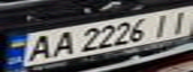2: (75, 25, 103, 54), (96, 21, 121, 51), (115, 19, 136, 47)
6: (127, 16, 154, 43)
A: (18, 33, 57, 63), (45, 29, 78, 58)
I: (145, 11, 178, 38), (163, 7, 193, 35)
